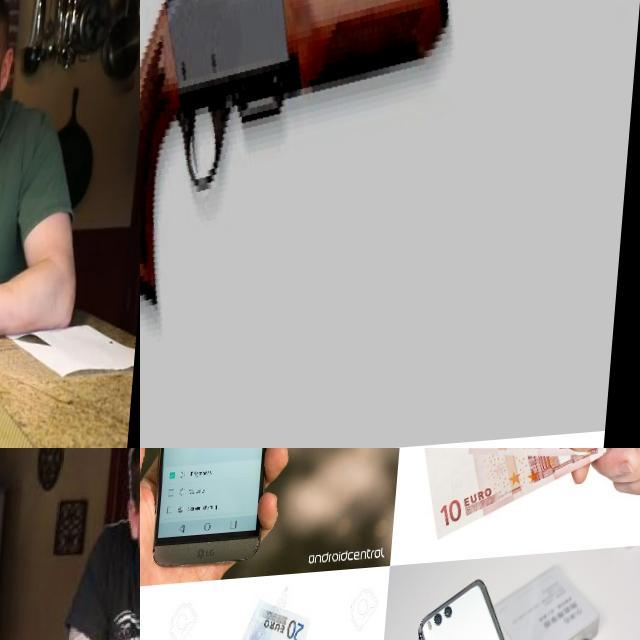-: (0, 168, 55, 295)
gun-knife-thesis - v11 Yolov5 augmented: (140, 0, 640, 448)
